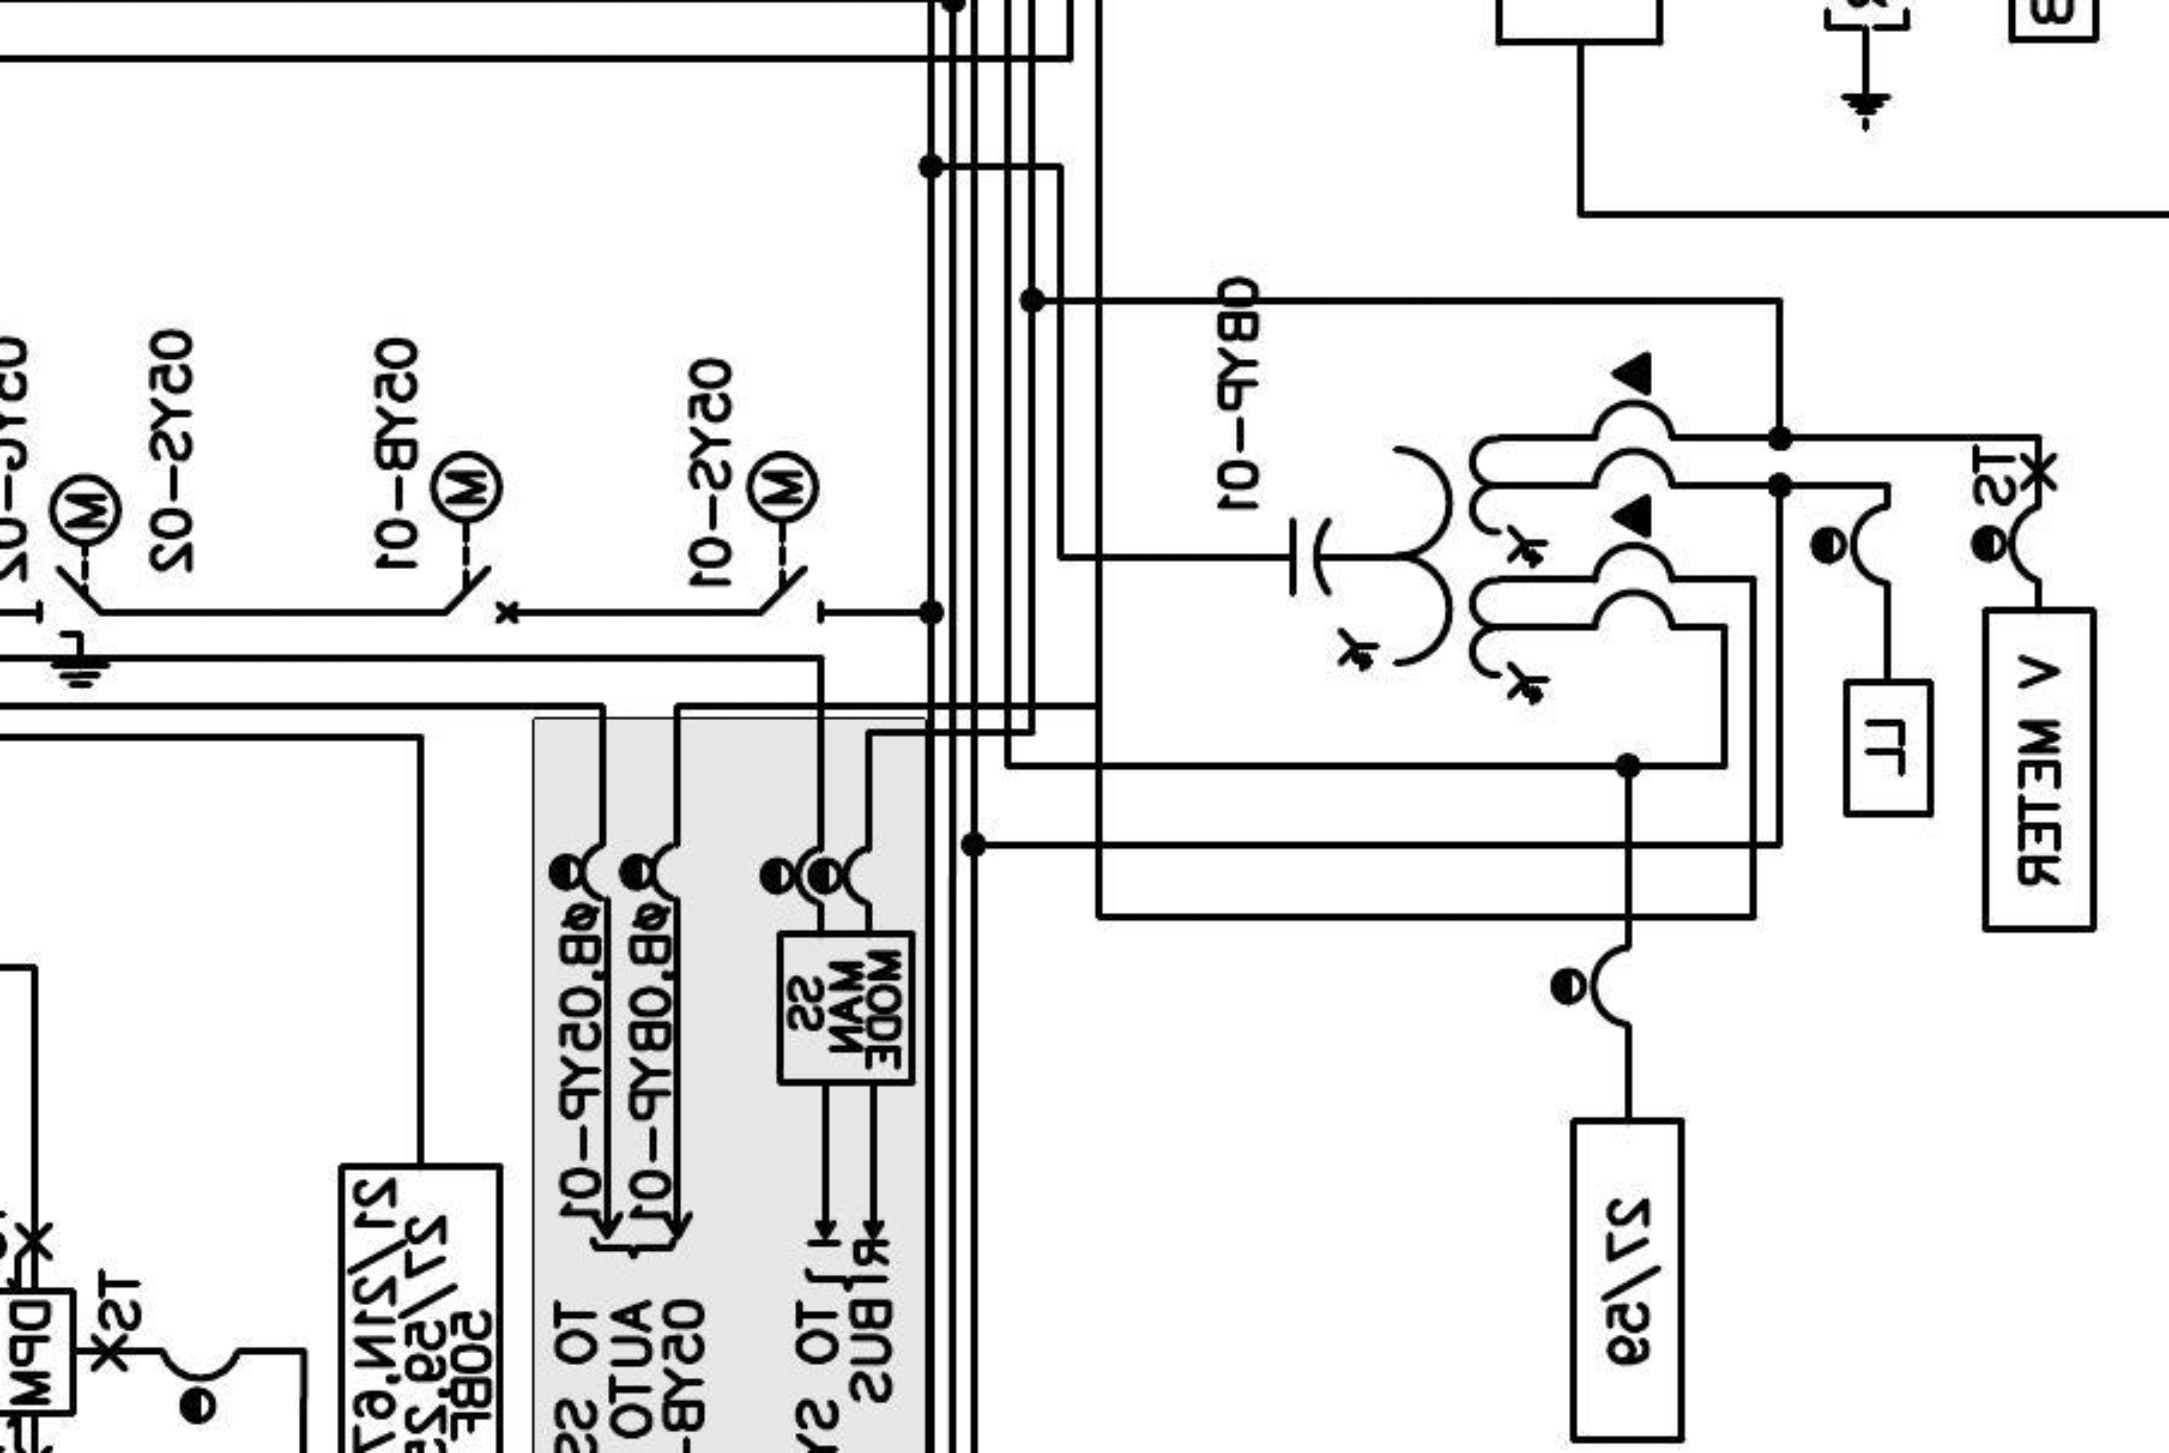115_1way_ds_w_motor: (744, 449, 827, 626)
115_3ways_ds_w_motor: (36, 471, 126, 690)
115_breaker: (442, 564, 521, 625)
115_cvt_3p: (1287, 348, 1680, 708)
LL: (1840, 677, 1938, 820)
ss_man_mode: (776, 929, 917, 1086)
v_m_digital: (1980, 604, 2100, 935)
